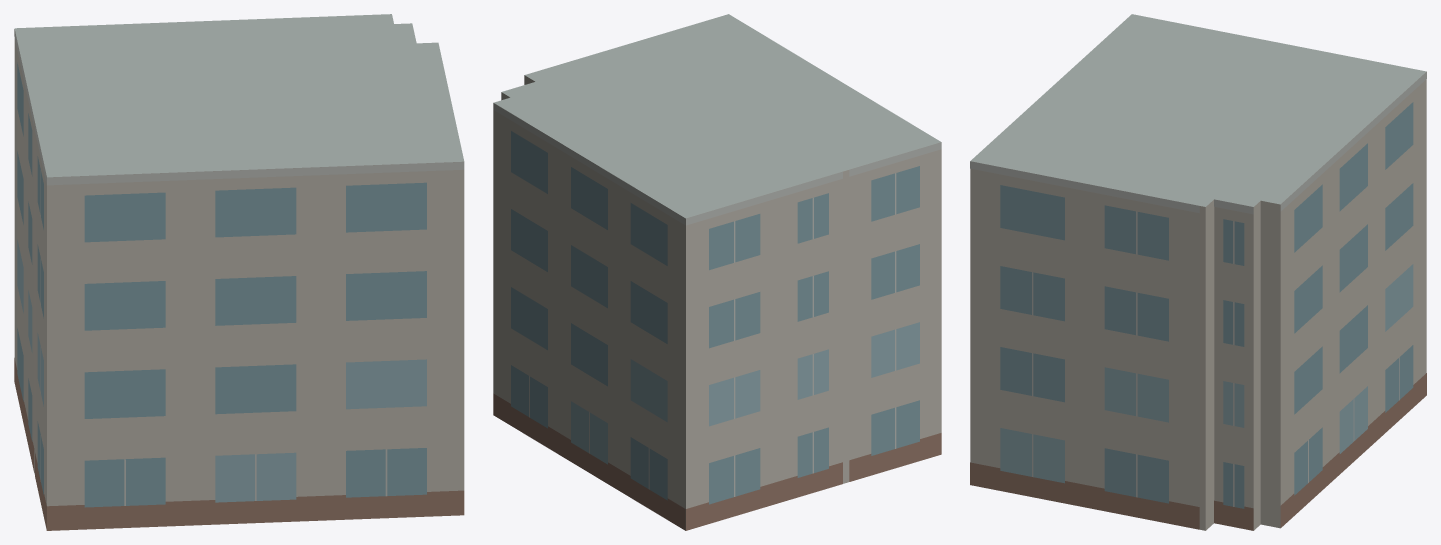
Rendered from survey-upis-32611415.glb.
3 renders of one model, left to right at view 1: azimuth 30°, elevation 25°; view 2: azimuth 150°, elevation 25°; view 3: azimuth 270°, elevation 25°, orthographic. The views are drawn at different scales.
Visible parts, largest first — view 1: survey-upis-32611415.tmp; view 2: survey-upis-32611415.tmp; view 3: survey-upis-32611415.tmp.
Boxes of the visible parts, x1,y1,x2,y2 form: survey-upis-32611415.tmp: (14, 14, 464, 530); survey-upis-32611415.tmp: (493, 14, 941, 530); survey-upis-32611415.tmp: (970, 14, 1426, 530).
Bounding box in the file's own units: 13.69 × 10.7 × 13.68.
